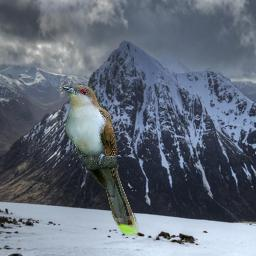Cuckoo: (61, 84, 139, 236)
